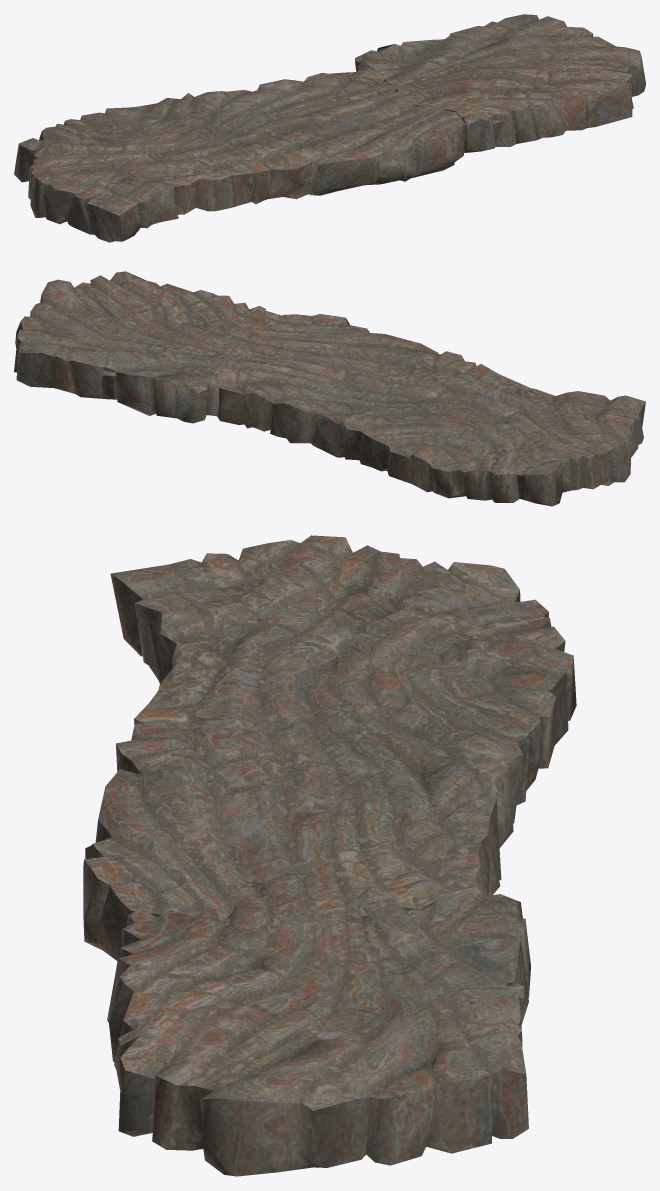
The model's file is bg_rad_kamen_rockfloor03b_sm.obj.
The picture shows the model from 3 angles, top to bottom: view 1: azimuth 30°, elevation 25°; view 2: azimuth 150°, elevation 25°; view 3: azimuth 270°, elevation 25°; orthographic projection. The views are drawn at different scales.
Visible parts, largest first — view 1: bg_rad_kamen_rockfloor03b_sm_1, bg_rad_kamen_rockfloor03b_sm_0; view 2: bg_rad_kamen_rockfloor03b_sm_1, bg_rad_kamen_rockfloor03b_sm_0; view 3: bg_rad_kamen_rockfloor03b_sm_1, bg_rad_kamen_rockfloor03b_sm_0.
Part boxes in pixels (x1,y1,x2,y2): bg_rad_kamen_rockfloor03b_sm_1: (14,68,465,242); bg_rad_kamen_rockfloor03b_sm_0: (355,14,645,152); bg_rad_kamen_rockfloor03b_sm_1: (211,314,645,506); bg_rad_kamen_rockfloor03b_sm_0: (14,271,281,423); bg_rad_kamen_rockfloor03b_sm_1: (83,535,576,960); bg_rad_kamen_rockfloor03b_sm_0: (107,886,530,1176).
Bounding box in the file's own units: 8.16 × 0.5759 × 2.95.
2 materials, 2 textured.
